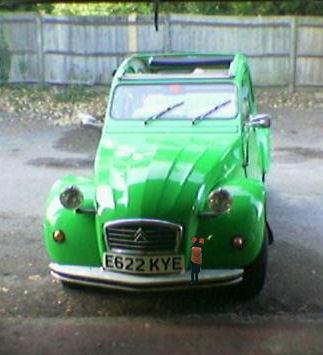tampered: (192, 237, 204, 284)
